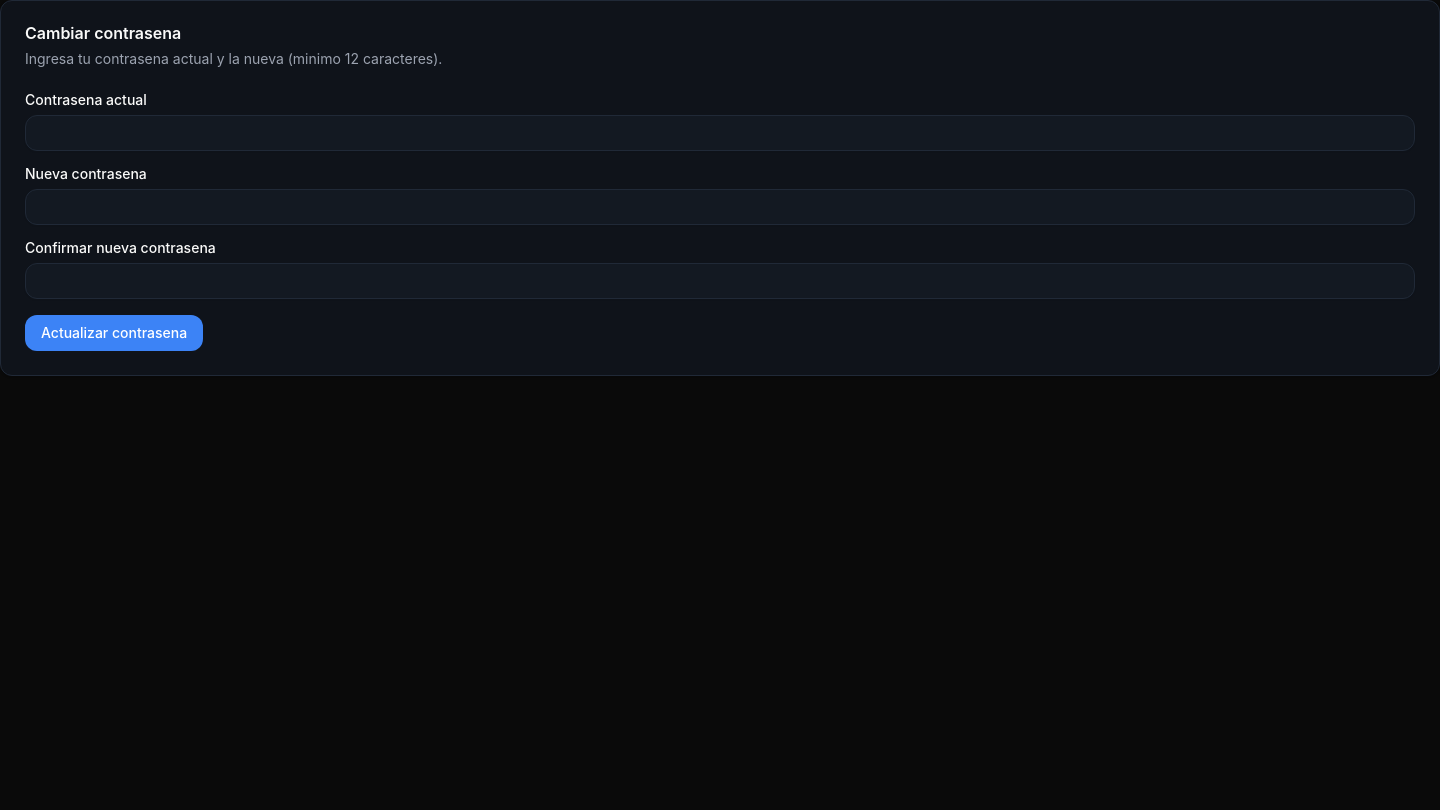
Test: ChangePasswordForm › Given current incorrecta When submit Then 401 inline NO rompe (toast)
Type "wrong-current-pass" into the password field labelled "Contrasena actual". click: (720, 133)
box: [25,115,1415,151]
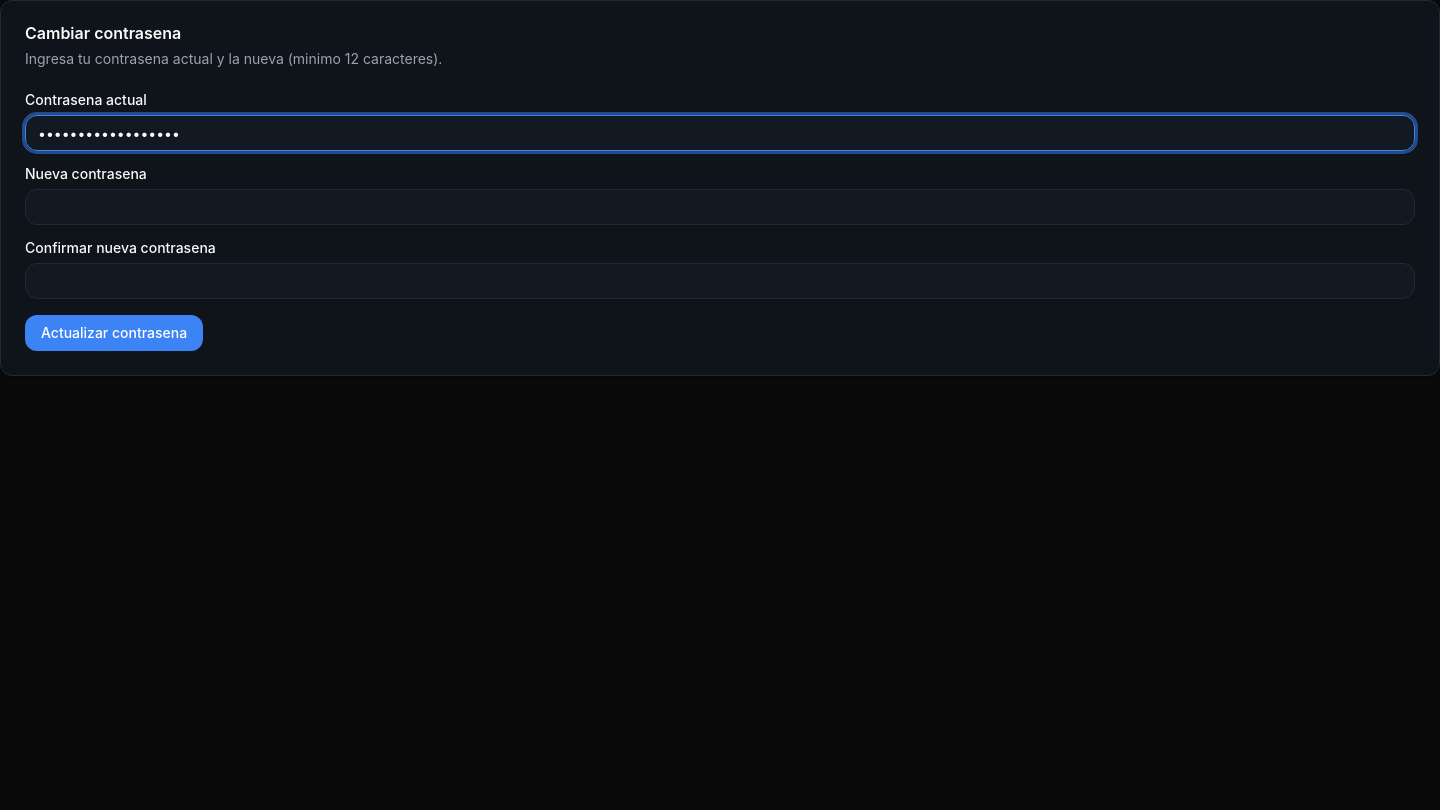
Type "nueva-pass-larga-1" into the password field labelled "Nueva contrasena". click: (720, 207)
box: [25,189,1415,225]
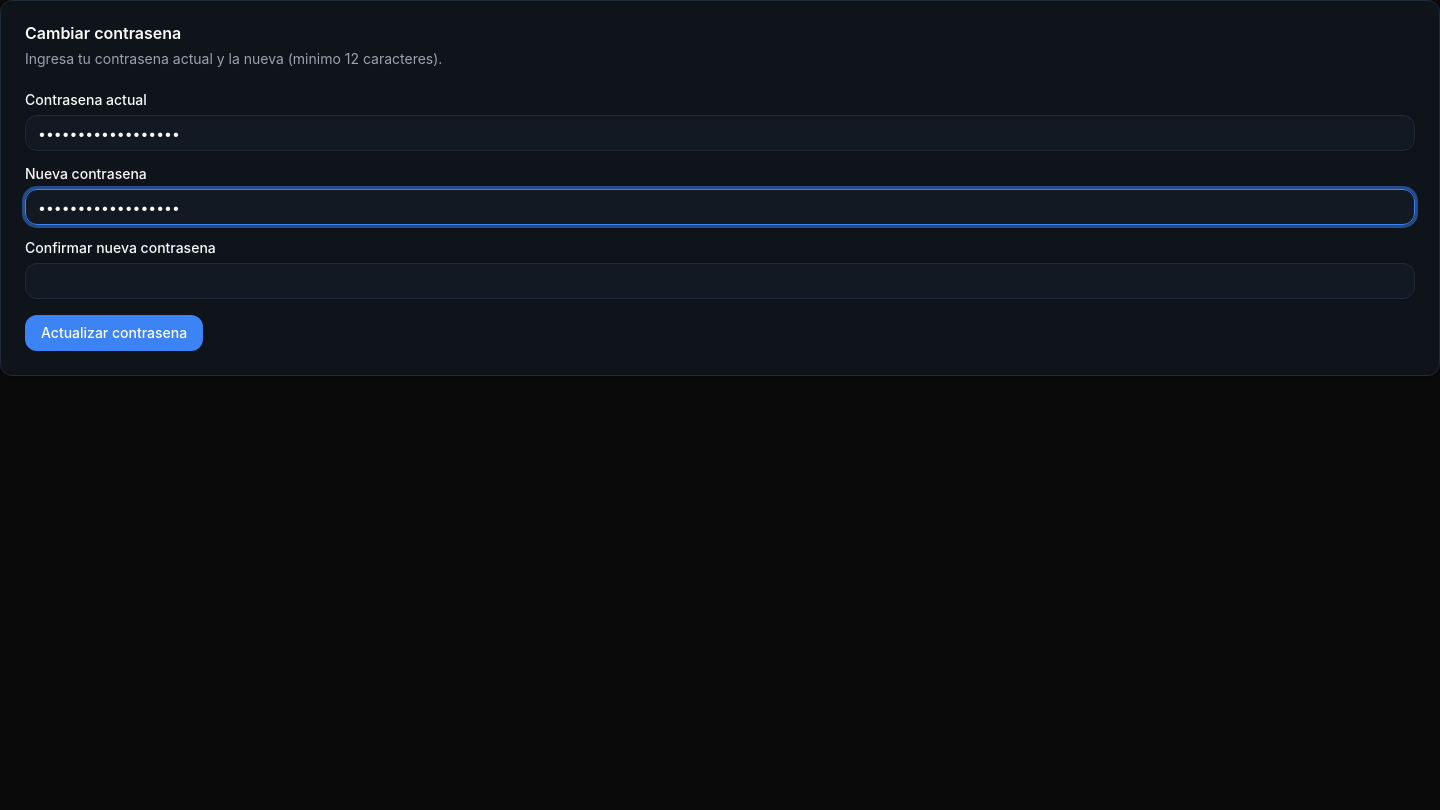
Type "nueva-pass-larga-1" into the password field labelled "Confirmar nueva contrasena". click: (720, 281)
box: [25,263,1415,299]
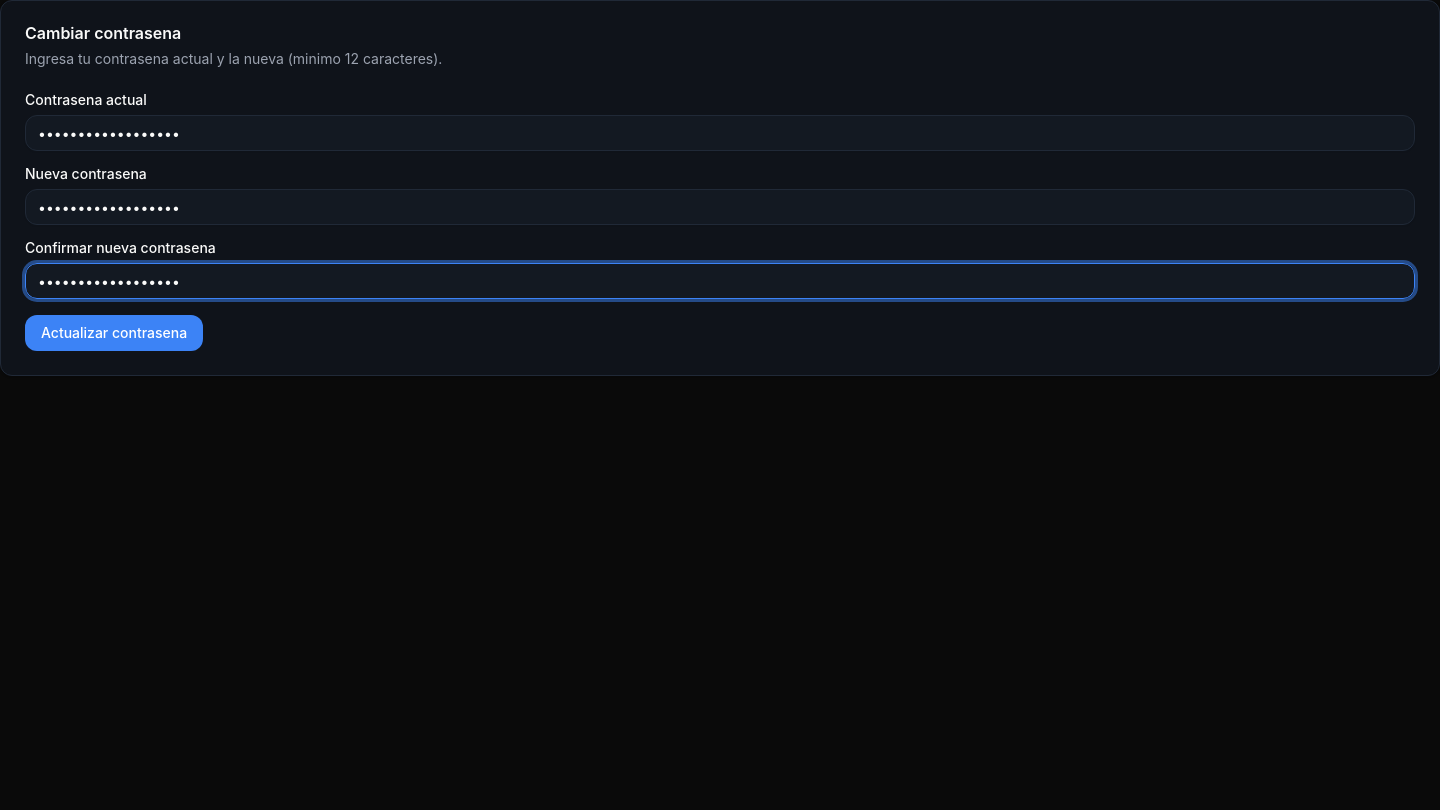
Click the button "Actualizar contrasena". click: (114, 333)
box: [25,315,203,351]
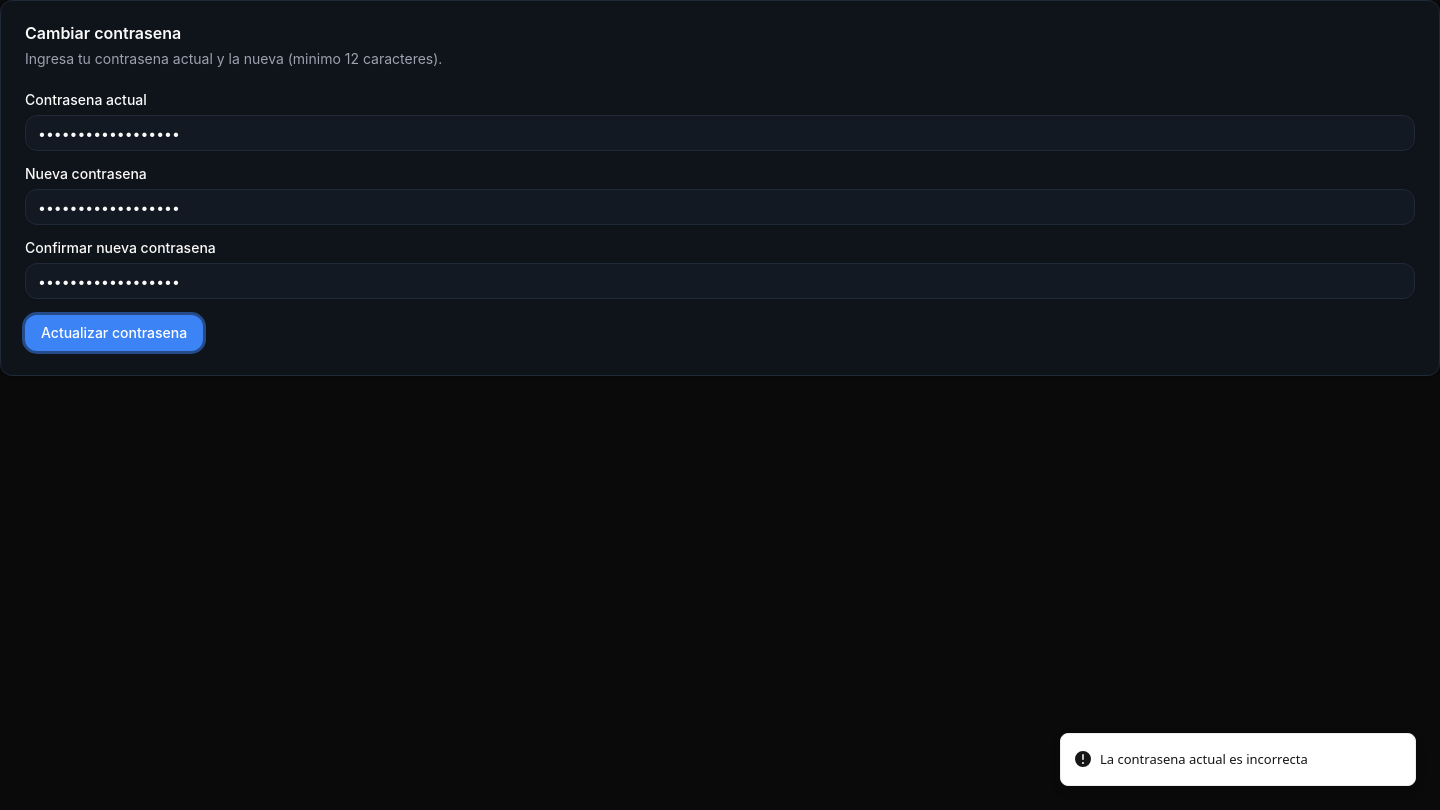
Expected: the text "La contrasena actual es incorrecta" is shown, [1100,750,1308,769]
